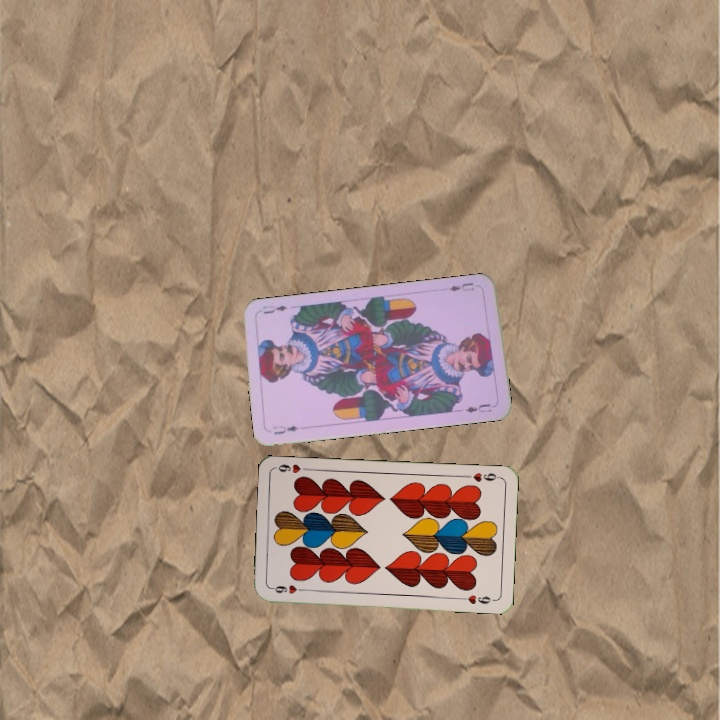EU: (269, 422, 301, 437), (445, 279, 476, 294)
H9: (462, 468, 502, 484), (268, 581, 309, 596)
